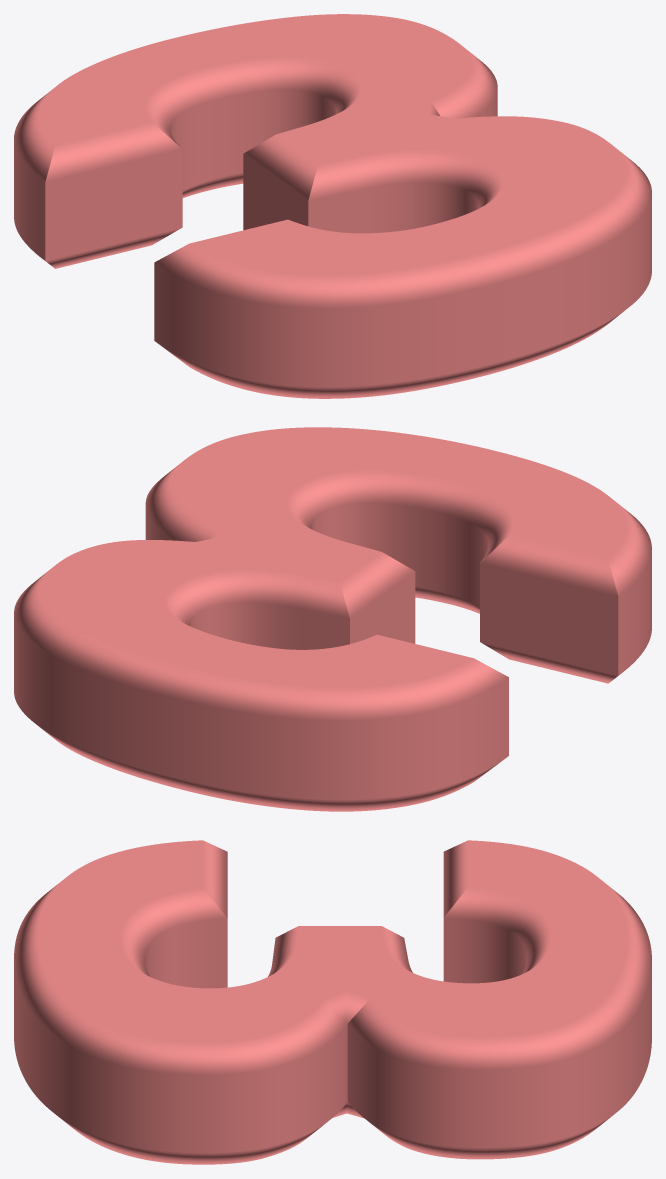
The picture shows the model from 3 angles, top to bottom: view 1: azimuth 30°, elevation 25°; view 2: azimuth 150°, elevation 25°; view 3: azimuth 270°, elevation 25°; orthographic projection.
Visible parts, largest first — view 1: Text; view 2: Text; view 3: Text.
Part boxes in pixels (x1=…): Text: x1=14, y1=14, x2=651, y2=398; Text: x1=14, y1=427, x2=651, y2=811; Text: x1=14, y1=840, x2=651, y2=1164.
Bounding box in the file's own units: 0.4315 × 0.11 × 0.5208.
